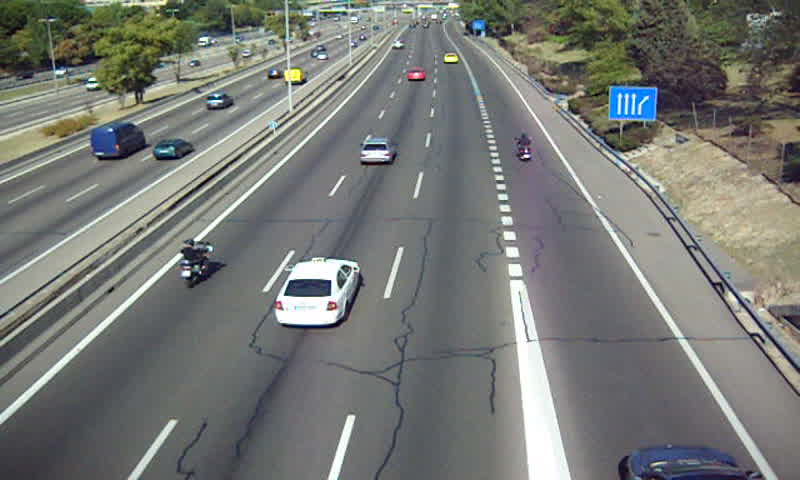car: (274, 259, 361, 326), (358, 140, 398, 166), (408, 68, 426, 84), (443, 52, 460, 63)
motorcycle: (179, 236, 213, 288), (516, 132, 532, 160)
